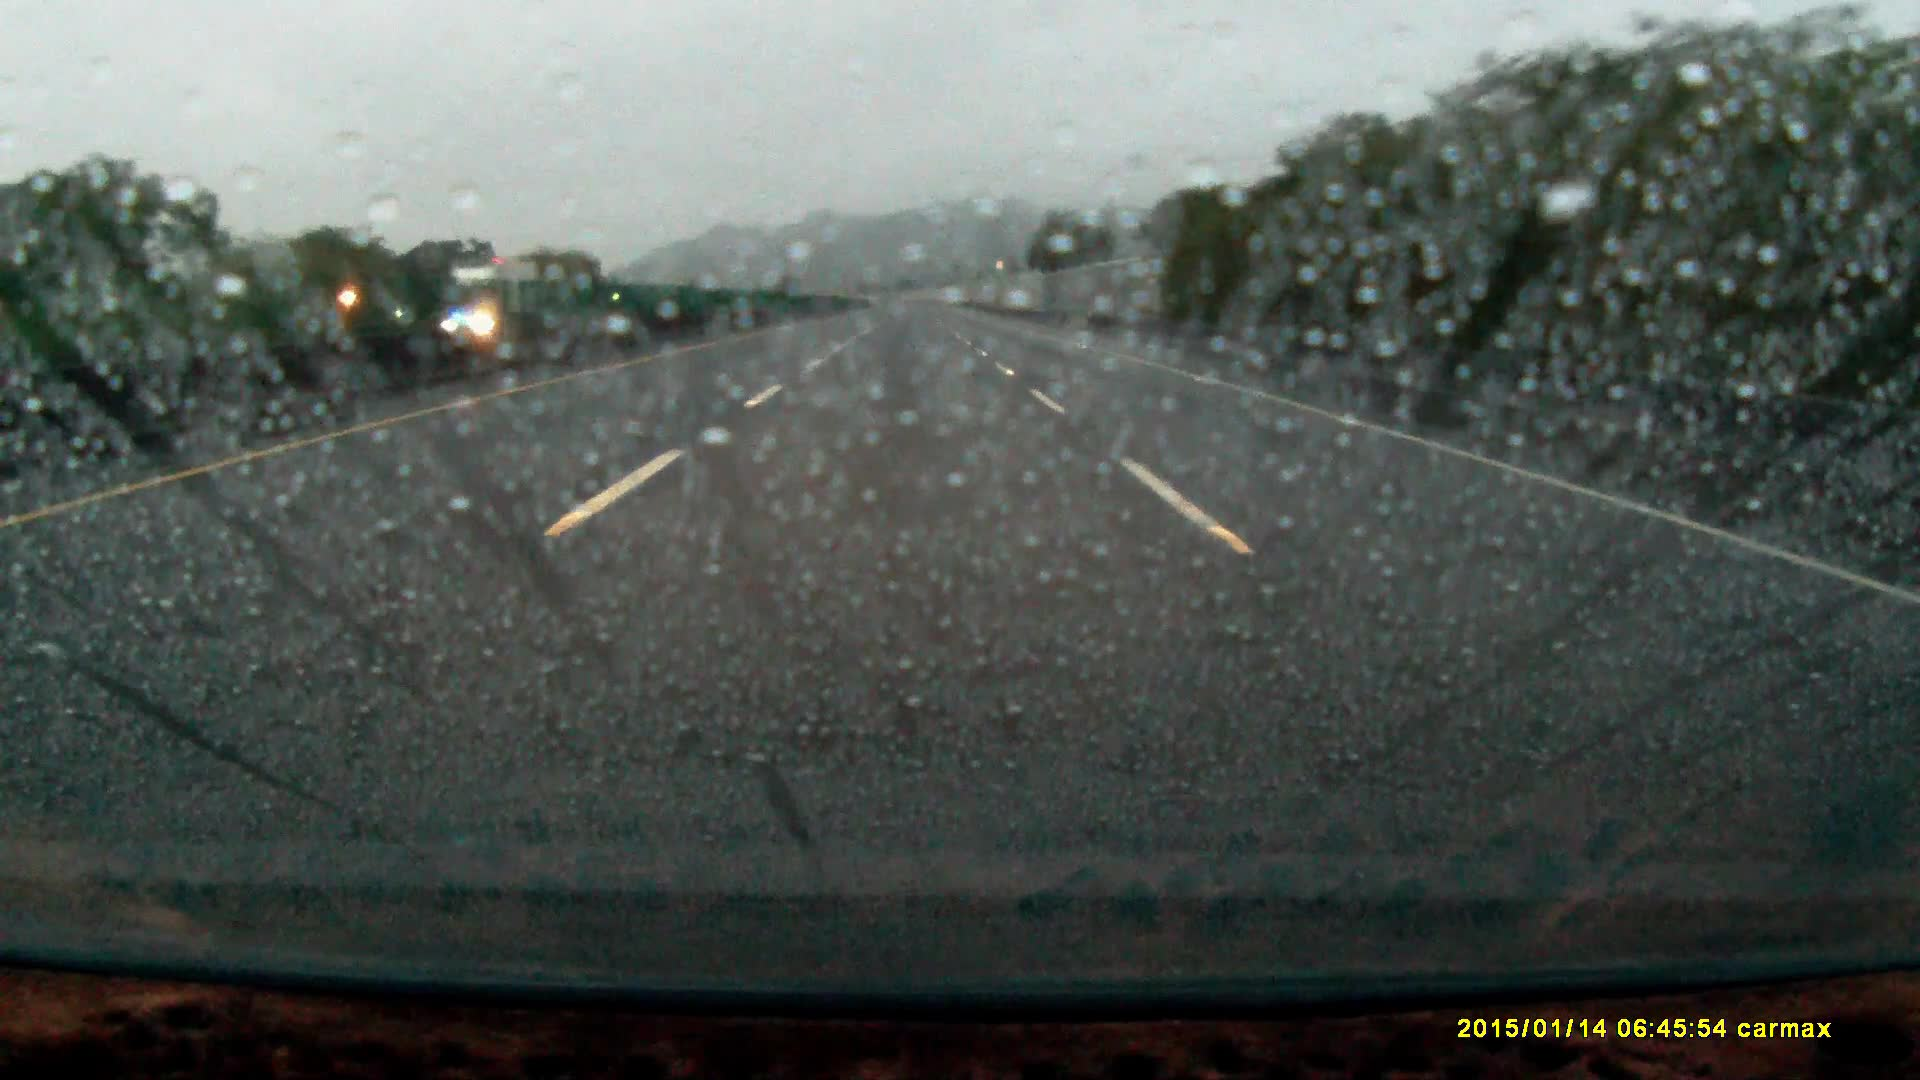vehicle: (438, 256, 541, 340)
